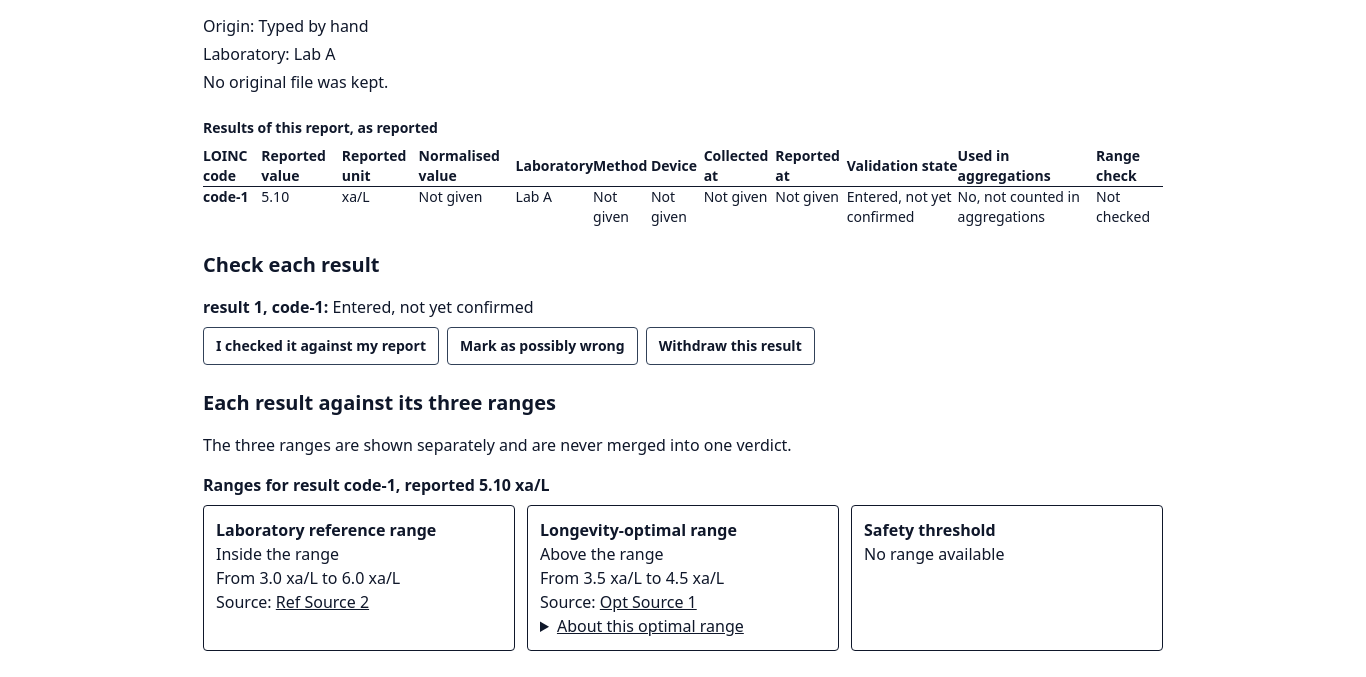
Scenario: opening About this optimal range shows its provenance
Click the heading "About this optimal range" at (650,626), box [557,615,744,637]
(page scrolled)
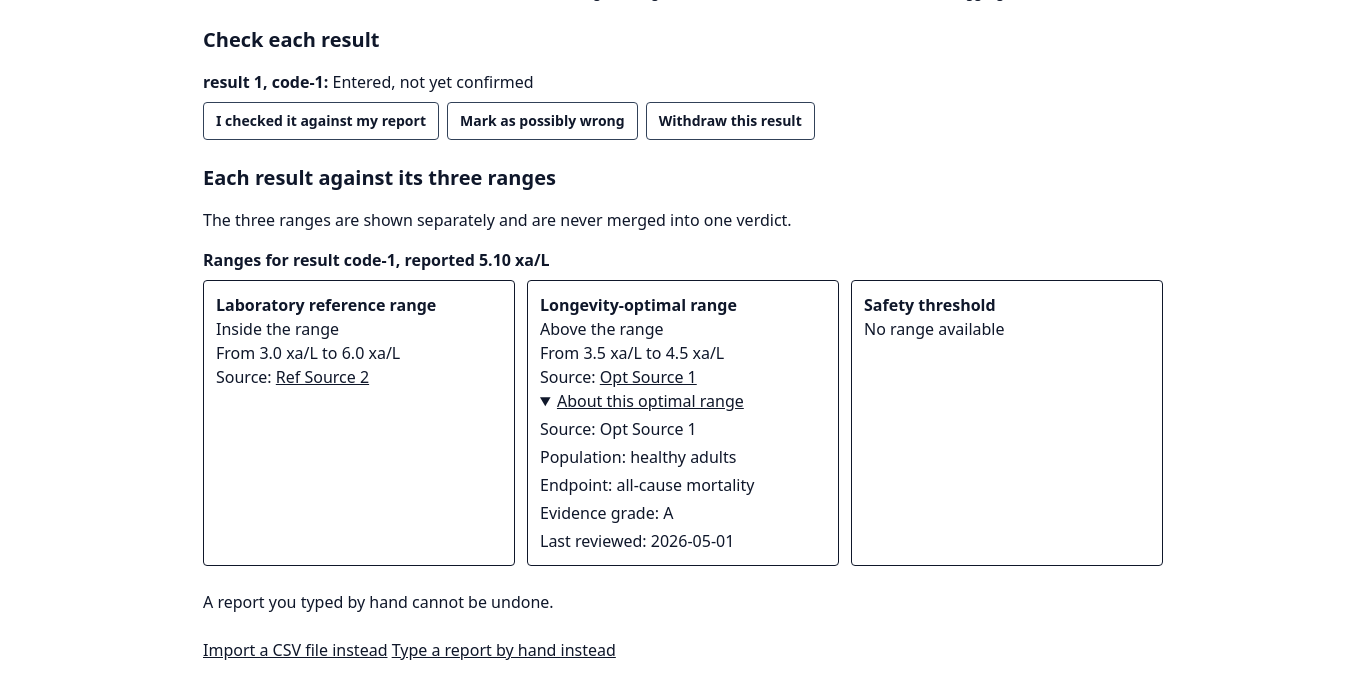
Expected: the element that starts with "About this optimal range" shows "Source: Opt Source 1", [540,390,754,552]
Expected: the element that starts with "About this optimal range" shows "Population: healthy adults", [540,390,754,552]
Expected: the element that starts with "About this optimal range" shows "Endpoint: all-cause mortality", [540,390,754,552]
